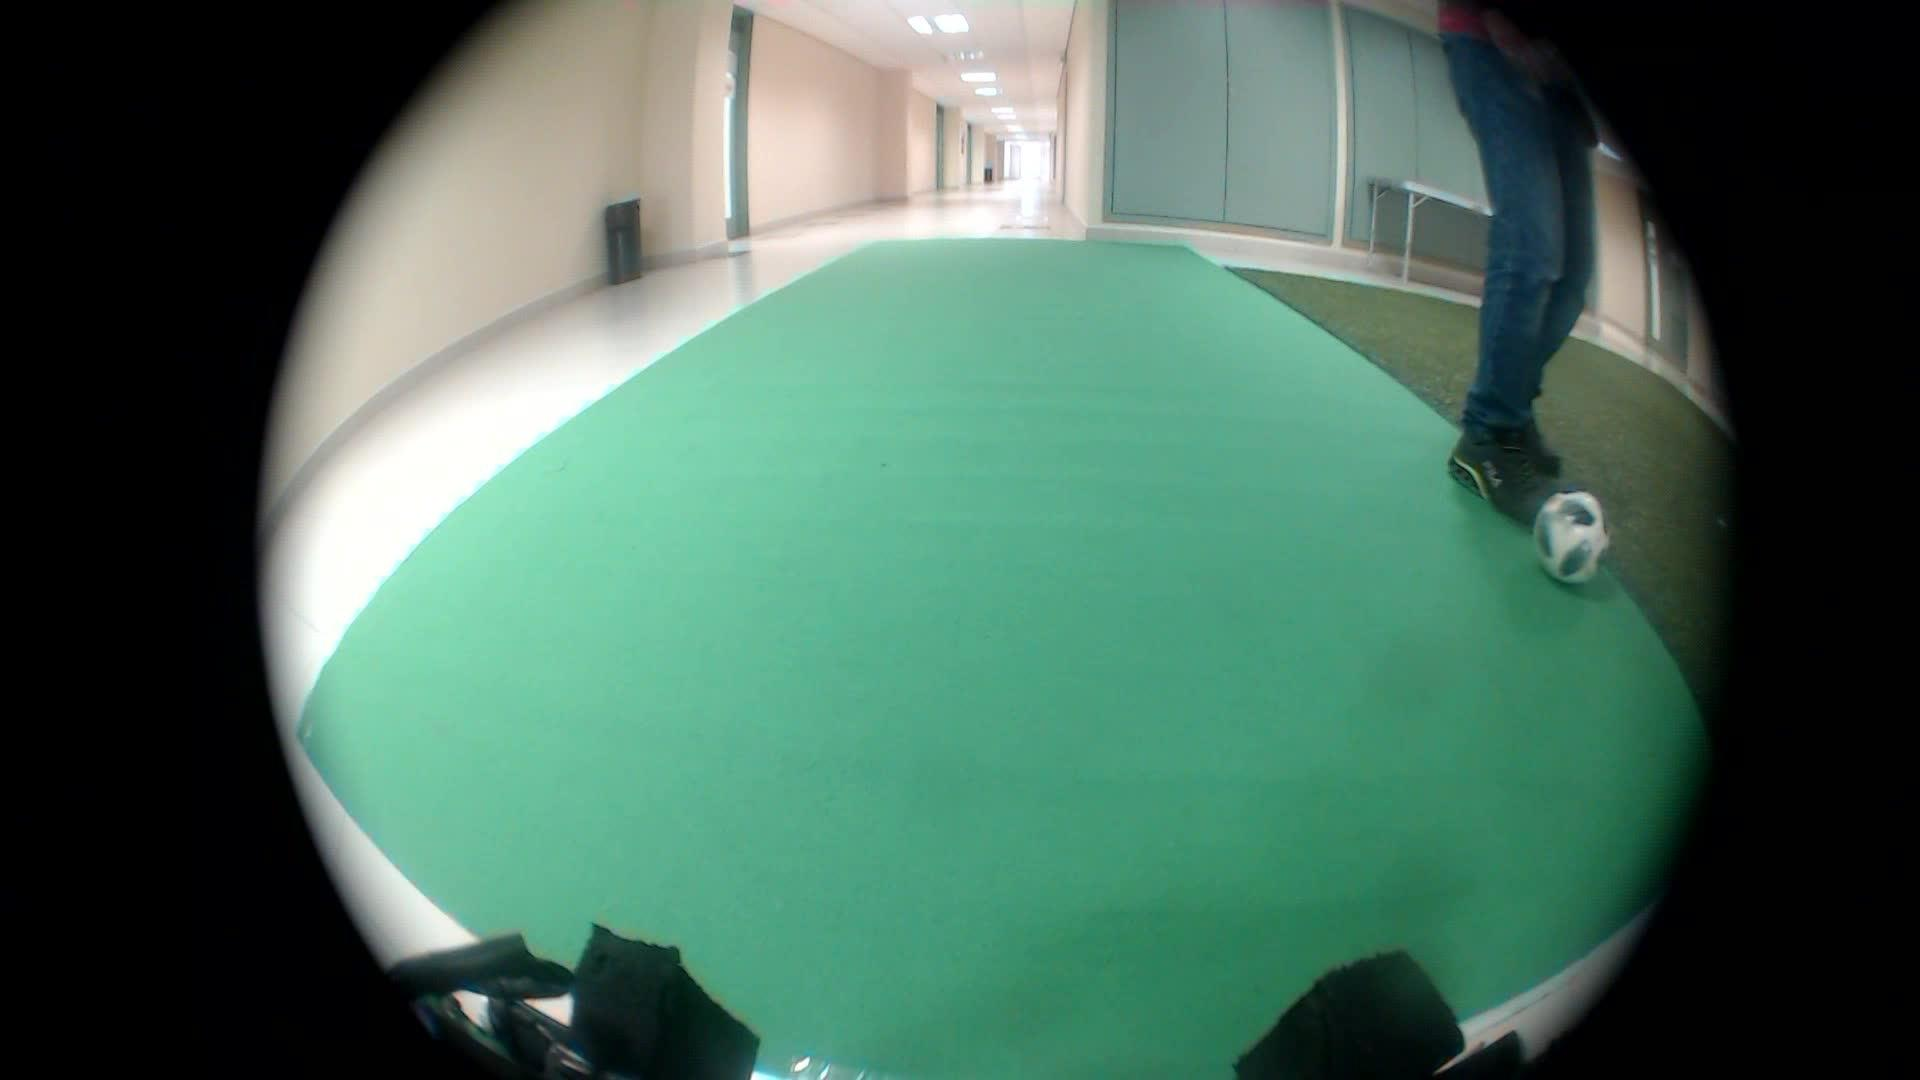ball: (1528, 492, 1617, 592)
